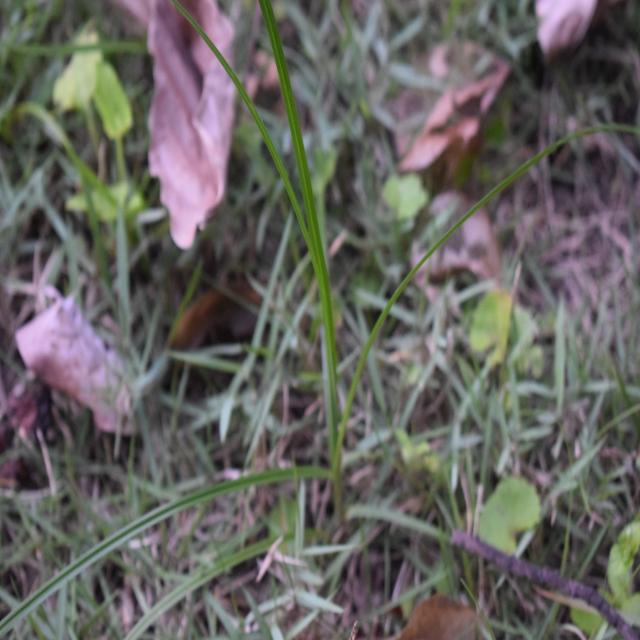sedge: (47, 40, 545, 592)
